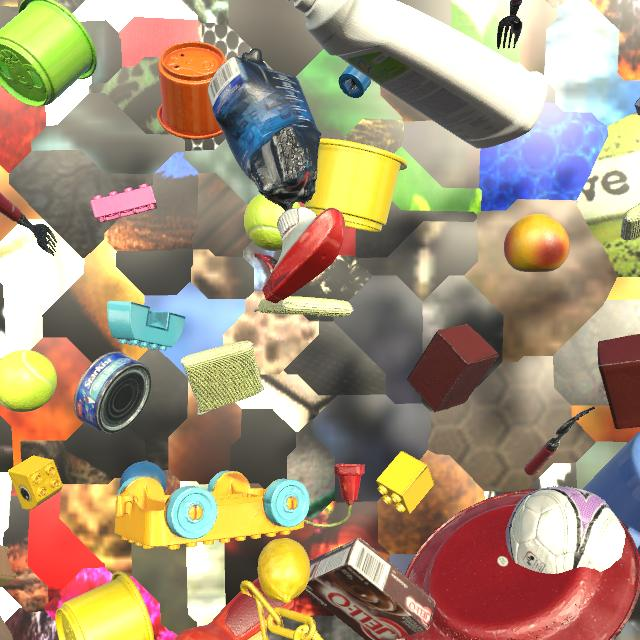ycb_007_tuna_fish_can: (74, 351, 152, 434)
ycb_008_pudding_box: (304, 538, 435, 640)
ycb_014_lemon: (258, 538, 310, 603)
ycb_015_peach: (504, 214, 570, 272)
